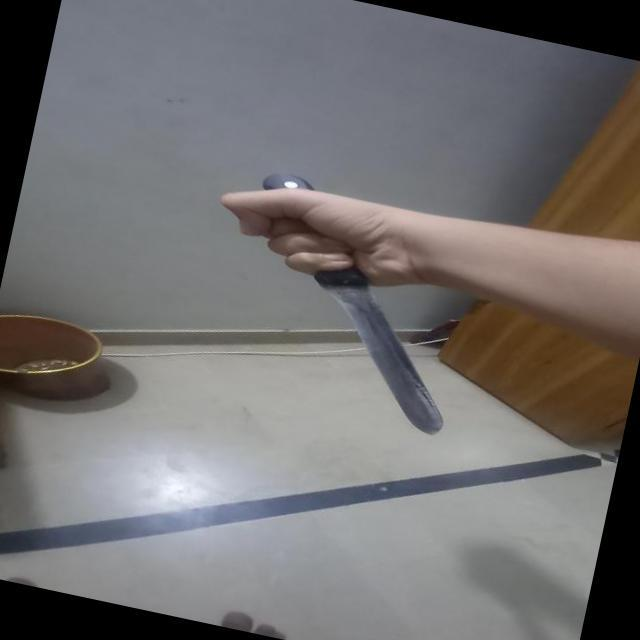Knife: (197, 156, 502, 443)
